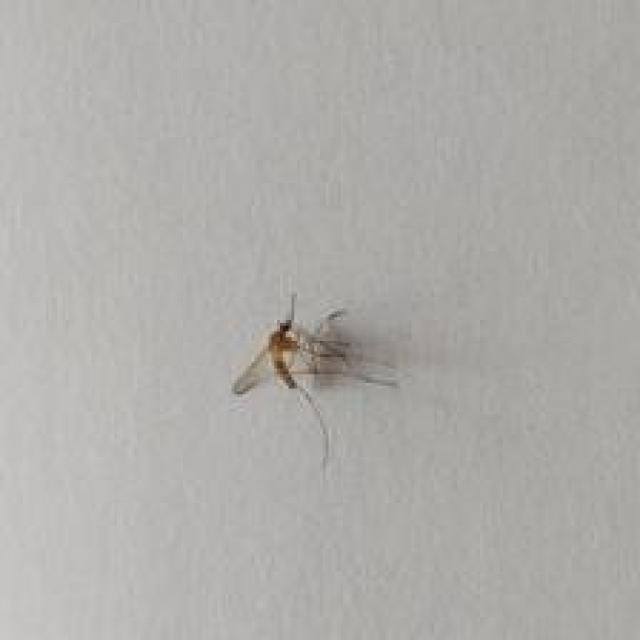Culex: (230, 292, 401, 472)
